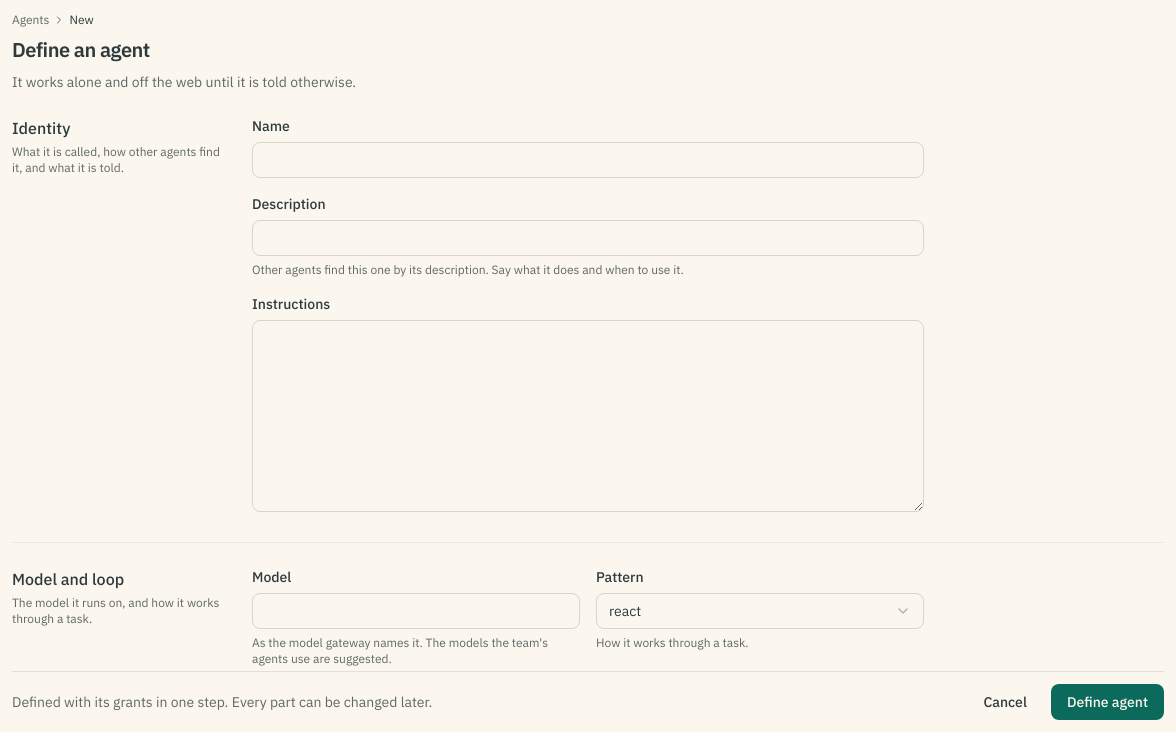
Scenario: defining an agent › shows the brain's refusal beside the action, and stays
This screenshot has width=1176, height=732.
Step 1. Type "reviewer" into the field labelled "Name" → x=588, y=160, box 252,142 -> 924,178
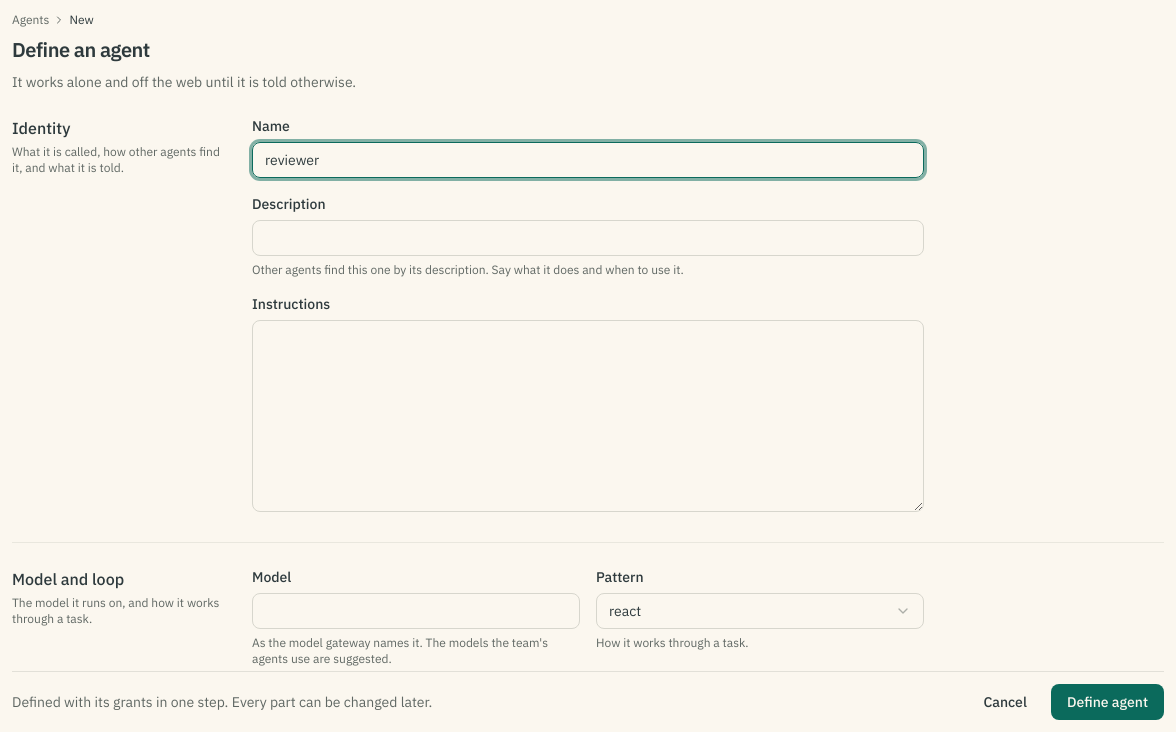
Step 2. Type "m" into the field labelled "Model" → x=416, y=611, box 252,593 -> 580,629
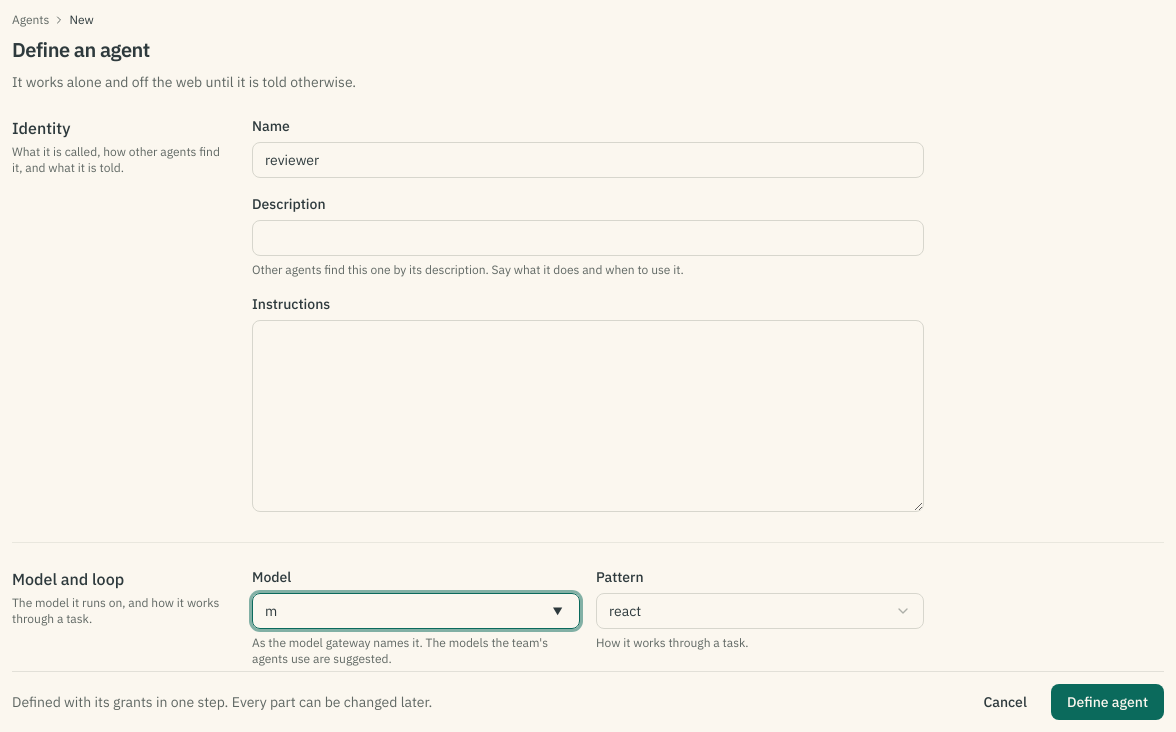
Step 3. Click the button "Define agent" → x=1107, y=702, box 1051,684 -> 1164,720
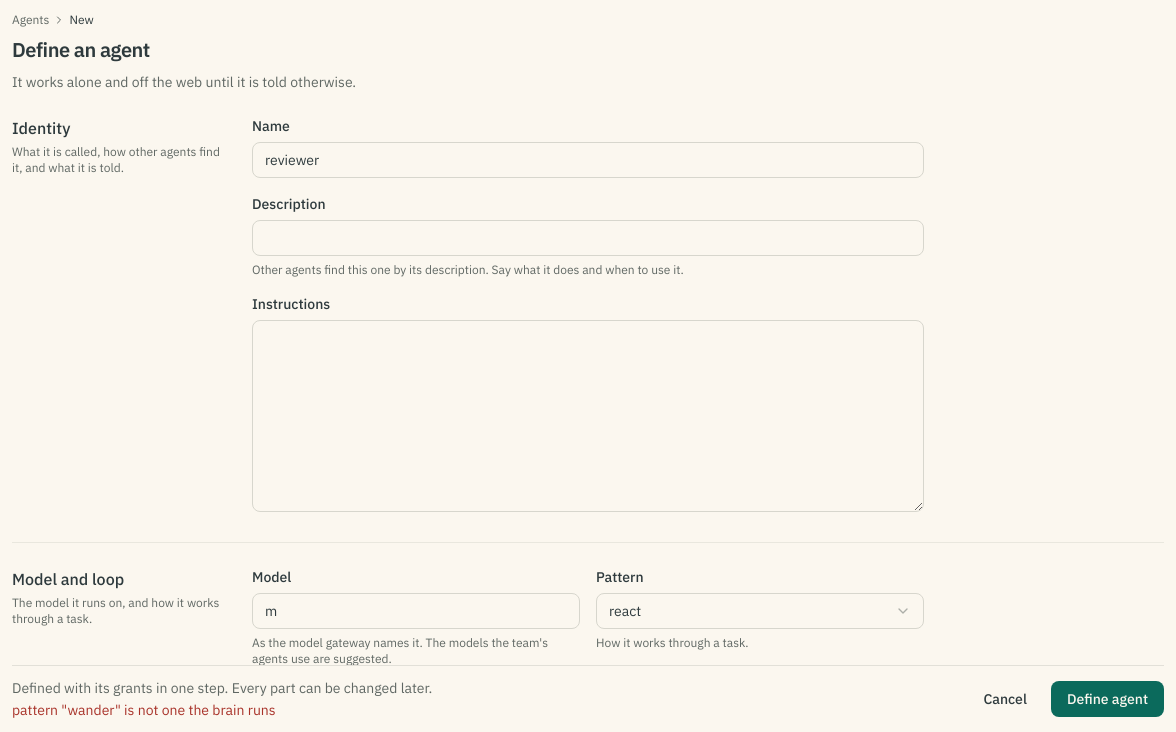
Expected: the message shows "is not one the brain runs", 12,701 -> 276,719
